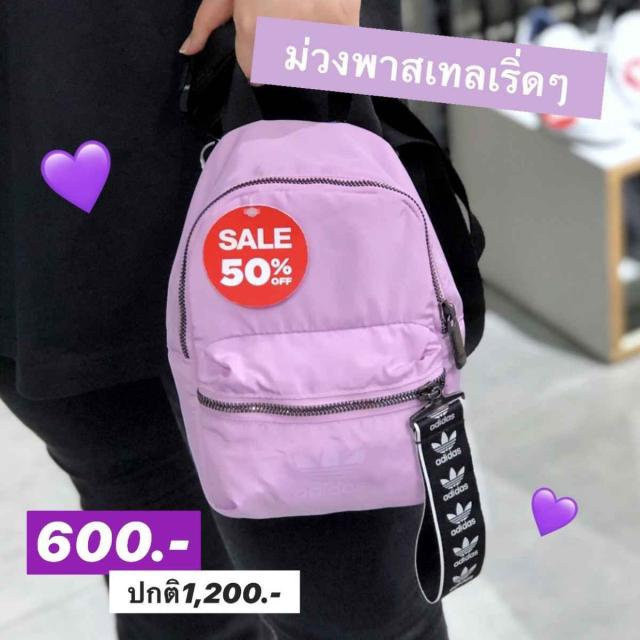Handbag: (162, 118, 464, 522)
